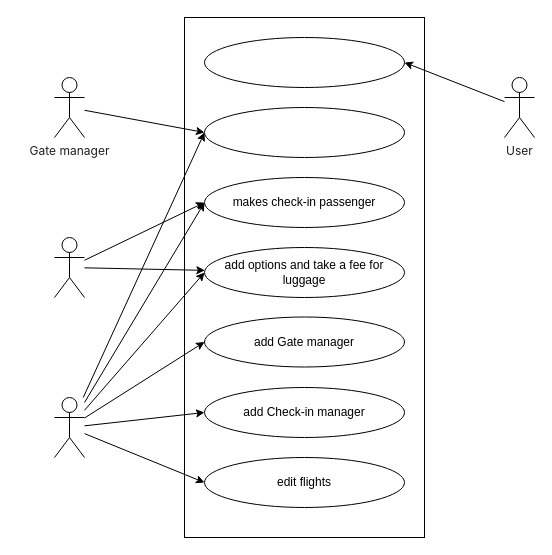
Some shapes in this 552 by 555 pixel diagram are drawn without their labels. The centre of each missing label's shape, as x and y in pixels:
"Buy ticket" goes at pixel 304 62.
"Check-in manager" goes at pixel 69 267.
"Register the boarding of the passenger" goes at pixel 304 132.
"Supervisor" goes at pixel 69 427.
